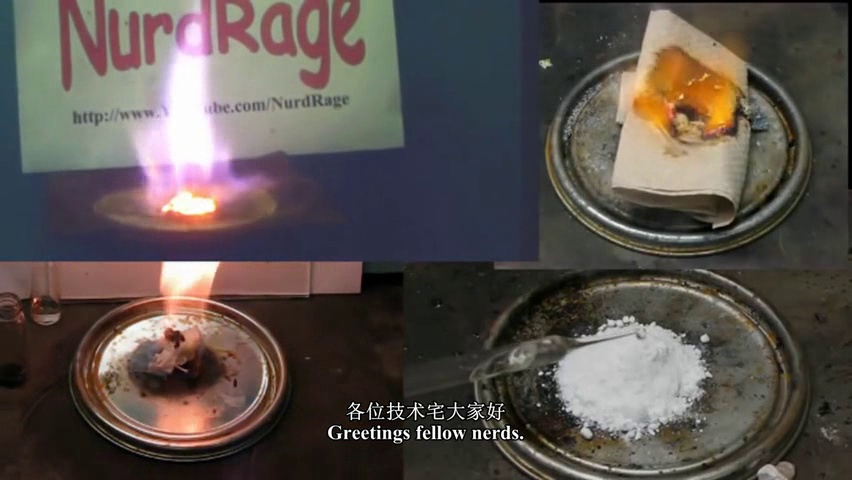fire: (116, 11, 239, 219), (631, 24, 740, 149), (141, 243, 227, 377)
